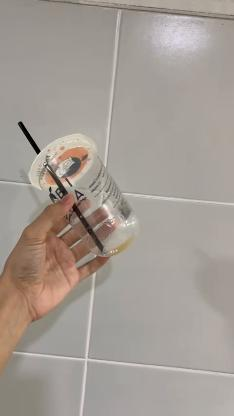Plastic Cup: (23, 134, 141, 258)
